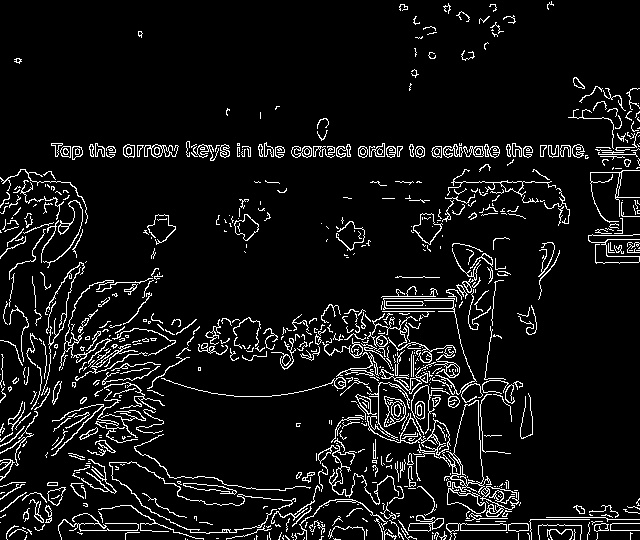down: (405, 207, 449, 253), (140, 207, 180, 249)
left: (329, 216, 371, 253)
right: (226, 208, 266, 243)
